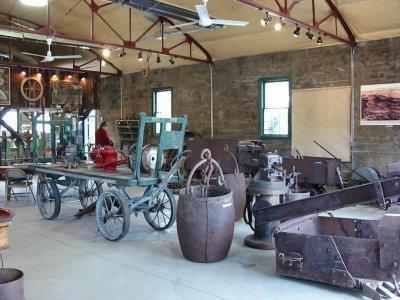Otro Obstaculo: (262, 199, 399, 291), (34, 162, 175, 245), (169, 150, 239, 265)
Ventana: (262, 80, 292, 139), (155, 92, 174, 134)
